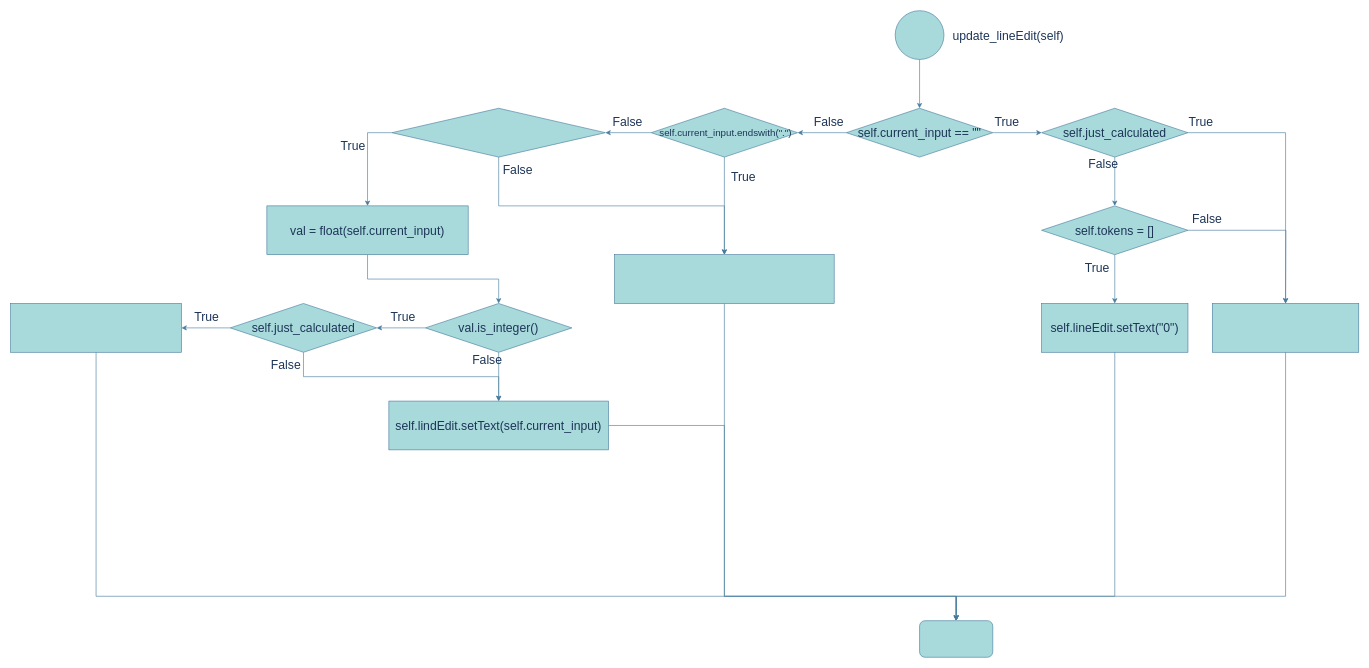
Image size: 1369x668. Some labels were removed from this diagram. The shapes that lost their labels are listed below. From the top down, each one's centre as x and y in pixels, then its label:
[498,132]: self.is_number(self.current_input)
[724,278]: self.lineEdit.setText(self.current_input)
[95,327]: self.lineEdit.setText(str(int(val))
[1285,327]: self.lineEdit.setText("")
